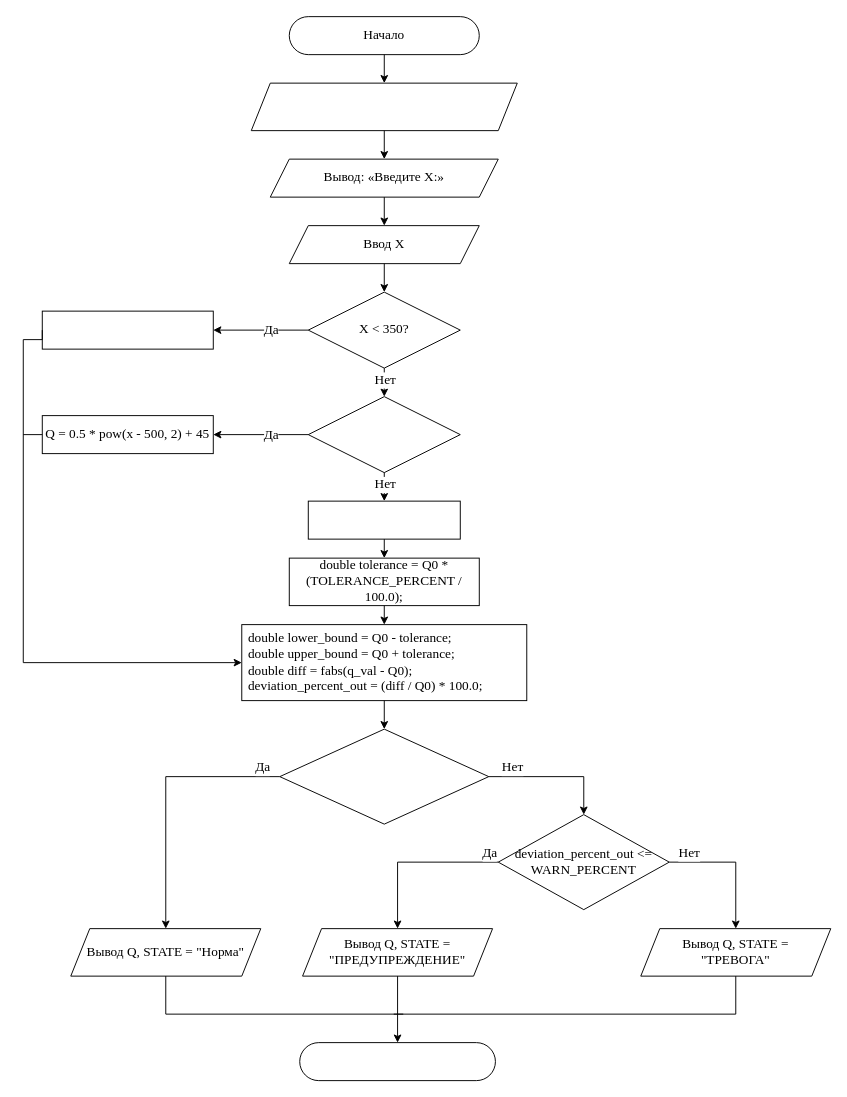
Some shapes in this 847 by 1097 pixel diagram are drawn without their labels. Each missing label, with the centre of its shape:
"#define TOLERANCE_PERCENT 8.0 #define WARN_PERCENT 20.0" belongs at (x=383, y=106).
"Q = 2 * (x - 350) + 5" belongs at (x=127, y=329).
"Q = 2*log(x-650+2)+60" belongs at (x=383, y=519).
"q_val >= lower_bound && q_val <= upper_bound" belongs at (x=384, y=776).
"X ≤ 650?" belongs at (x=383, y=434).
"Конец" belongs at (x=397, y=1061).
